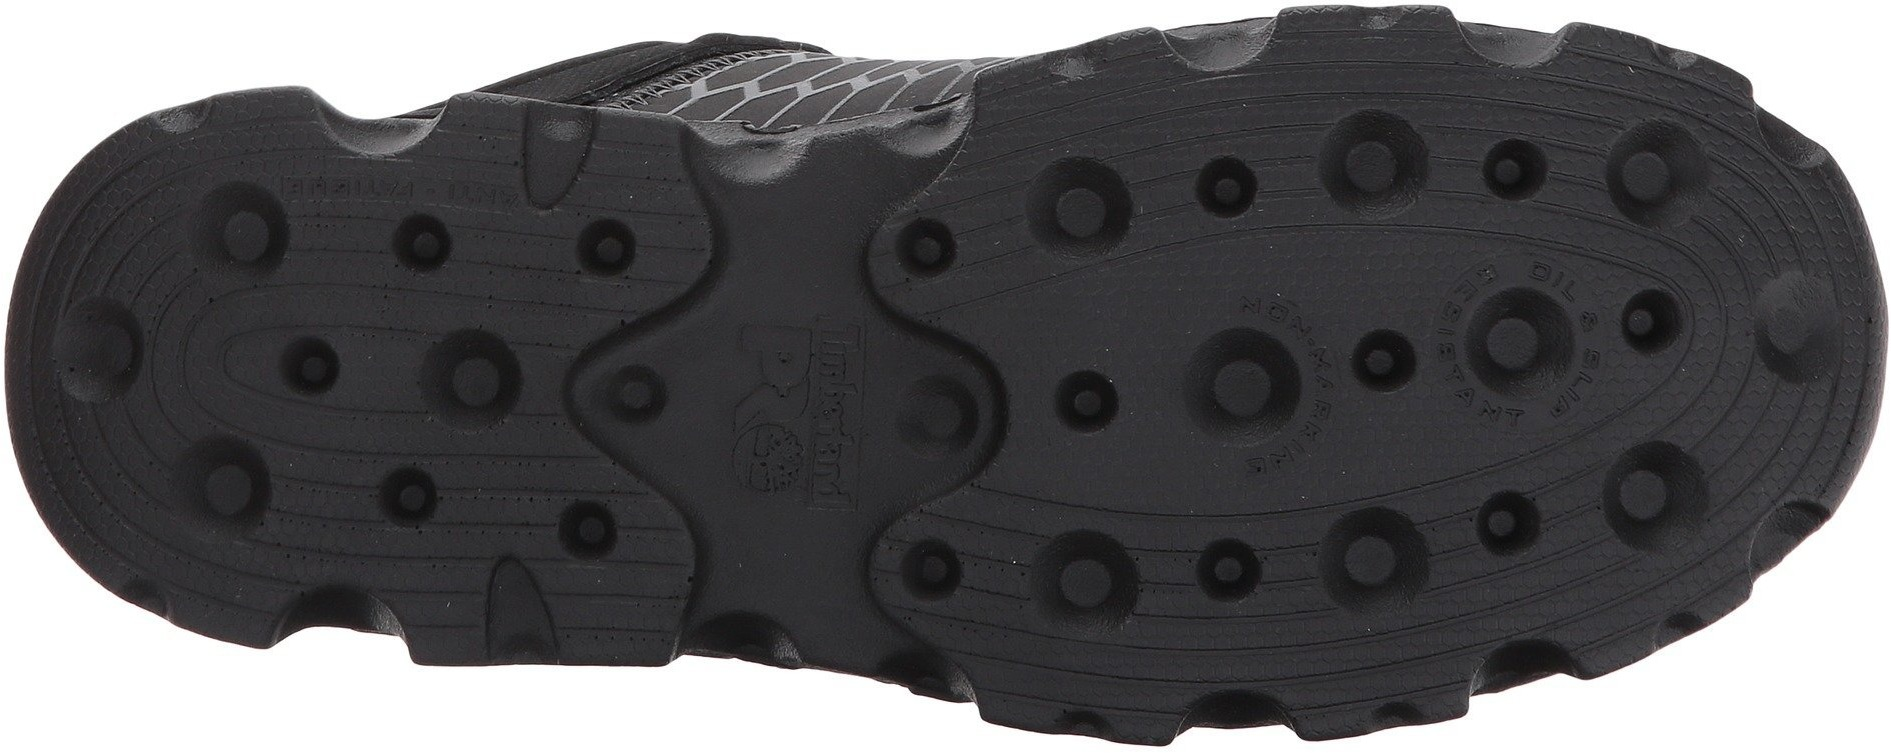circle: (31, 286, 281, 567), (140, 154, 364, 459), (1018, 477, 1312, 708), (1159, 80, 1419, 302), (1319, 453, 1568, 660), (1425, 241, 1610, 453), (286, 150, 517, 307), (345, 431, 480, 570), (416, 323, 519, 431), (1194, 331, 1292, 431), (1044, 361, 1129, 453), (1046, 167, 1123, 261), (1477, 296, 1564, 370)
exclude: (422, 16, 1077, 125)
line: (31, 286, 281, 567), (140, 154, 364, 459), (1018, 477, 1312, 708), (1159, 80, 1419, 302), (1319, 453, 1568, 660), (345, 431, 480, 570)
text: (1425, 241, 1610, 453), (684, 319, 882, 503), (286, 150, 517, 307)
